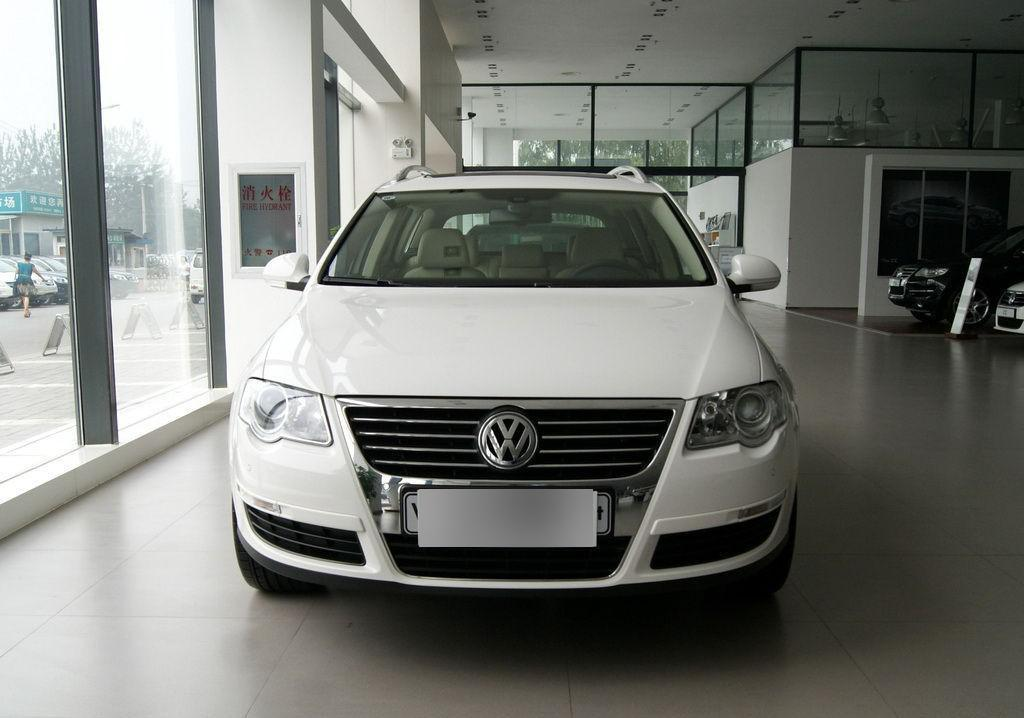Wagon: (228, 164, 801, 592)
